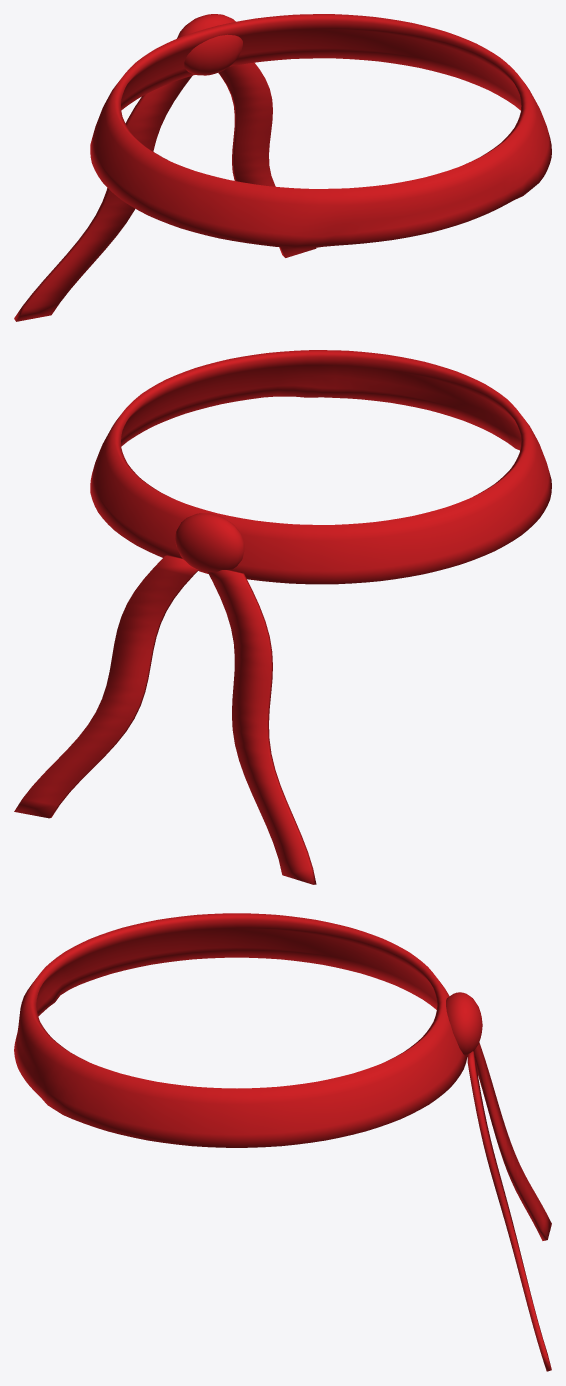
File: hachimaki_red.fbx
3 views of the same model, one above another, from view 1: azimuth 30°, elevation 25°; view 2: azimuth 150°, elevation 25°; view 3: azimuth 270°, elevation 25° (orthographic).
Parts seen in each view (by area): view 1: hachimaki; view 2: hachimaki; view 3: hachimaki.
Part boxes in pixels (x1,y1,x2,y2): hachimaki: [14, 14, 551, 321]; hachimaki: [14, 350, 551, 884]; hachimaki: [14, 913, 551, 1371].
Size of the model in its own units: 1.02 by 0.7337 by 1.19.
